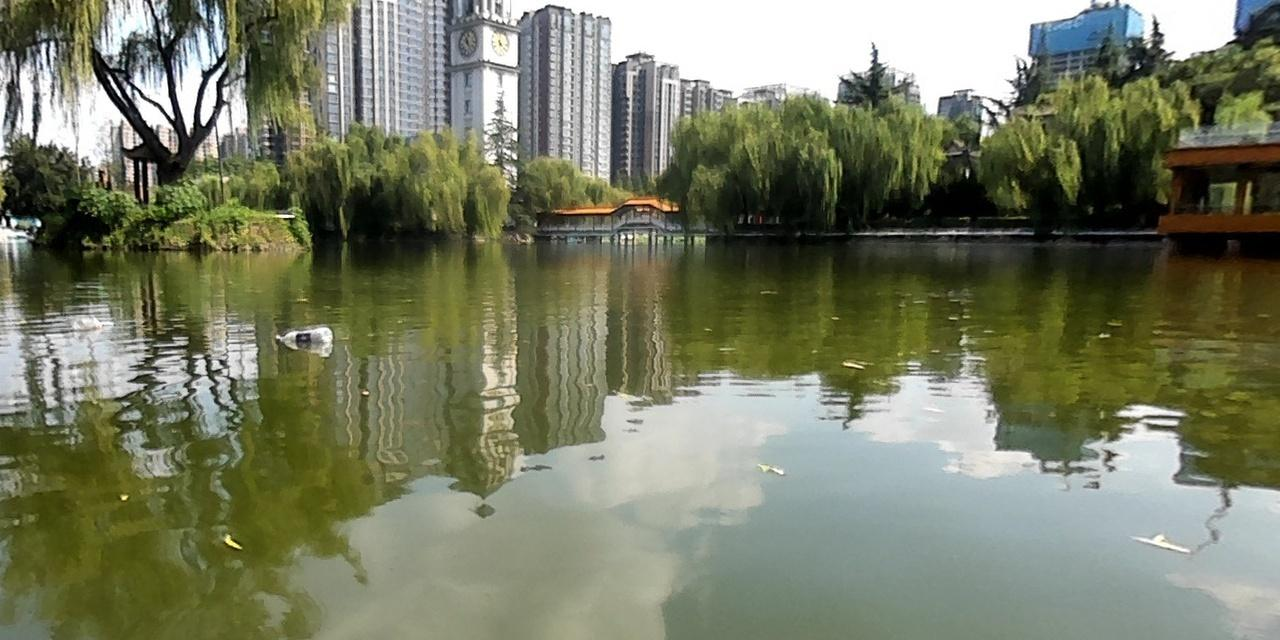bottle: (270, 325, 334, 349), (67, 314, 104, 330)
